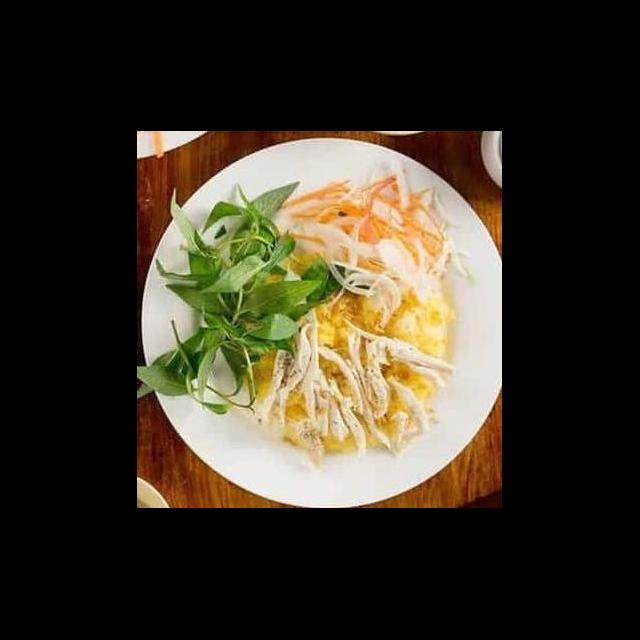com: (382, 286, 459, 364), (310, 286, 384, 350)
com ga: (171, 158, 470, 508)
rau ram: (138, 176, 348, 420)
thit ga: (253, 304, 457, 462)
